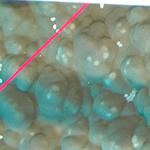alive: (3, 6, 147, 148)
